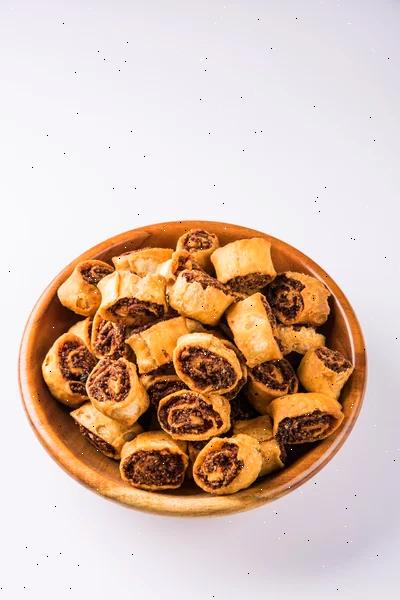bhakarwadi: (43, 229, 348, 501)
